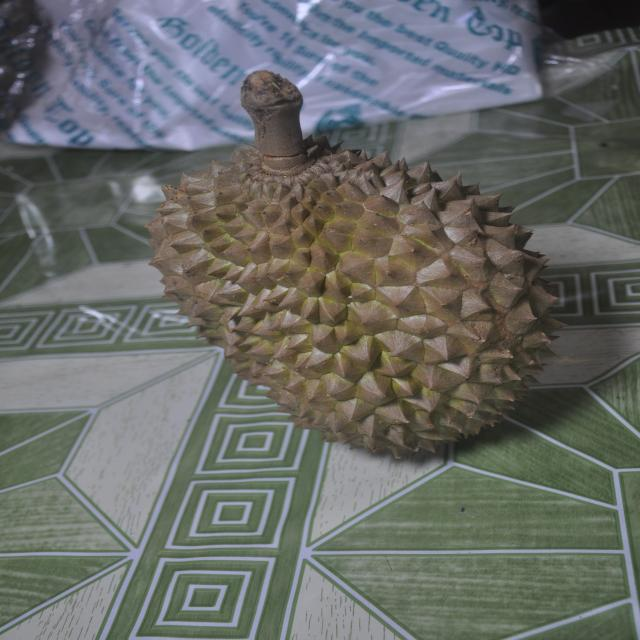mature: (148, 71, 563, 457)
